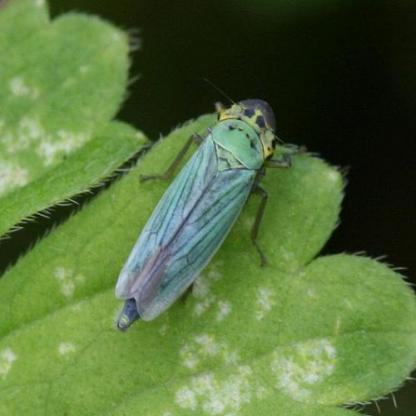Green-Leafhopper: (109, 91, 302, 340)
